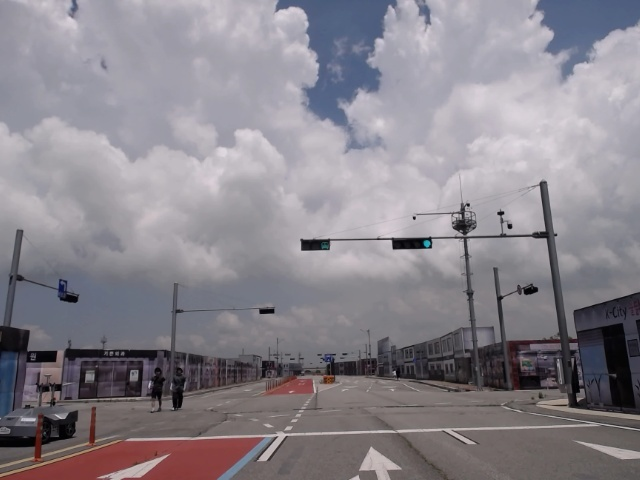straight_green_4: (392, 238, 433, 248)
